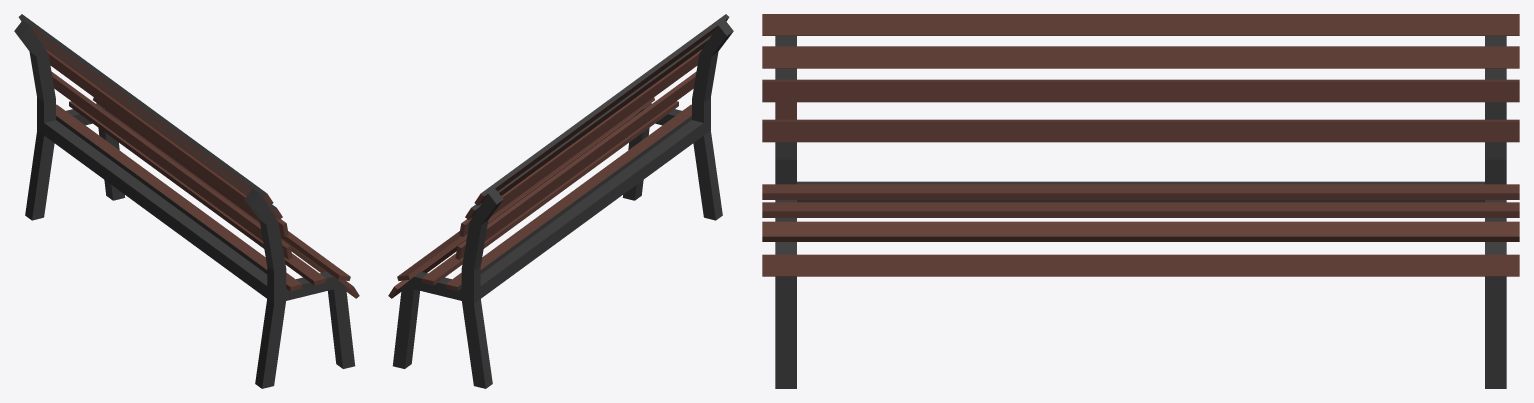
File: Bench.fbx
3 renders of one model, left to right at view 1: azimuth 30°, elevation 25°; view 2: azimuth 150°, elevation 25°; view 3: azimuth 270°, elevation 25°, orthographic. The views are drawn at different scales.
Visible parts, largest first — view 1: Bench; view 2: Bench; view 3: Bench.
Boxes of the visible parts, bbox=[...] form: Bench: bbox=[14, 14, 359, 388]; Bench: bbox=[388, 14, 733, 388]; Bench: bbox=[762, 14, 1519, 388].
Bounding box in the file's own units: 0.5461 × 0.99 × 2.22.
